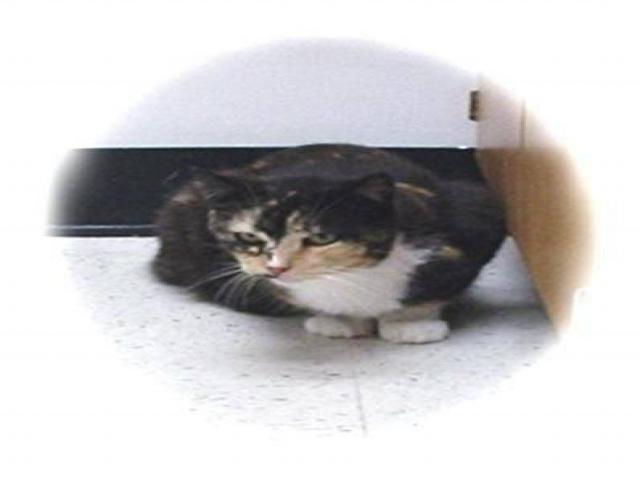cat: (128, 131, 522, 342)
